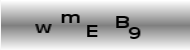9: (127, 26, 141, 40)
B: (115, 15, 130, 29)
E: (85, 24, 99, 38)
m: (60, 12, 81, 24)
w: (34, 23, 53, 34)
